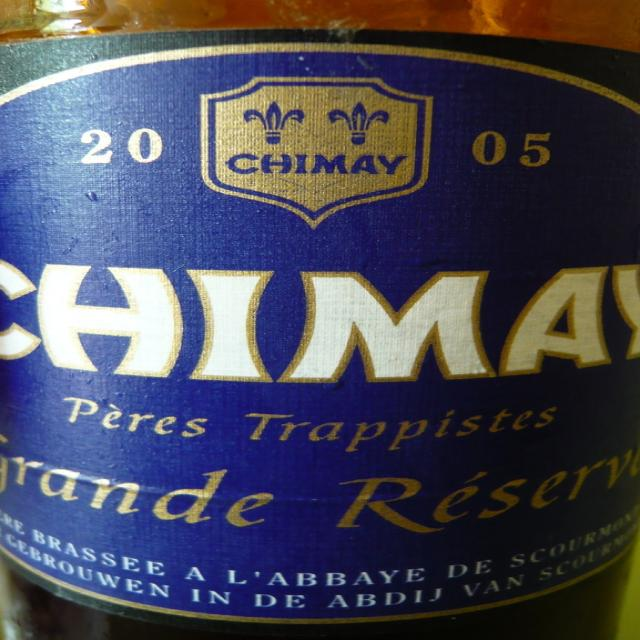chimay: (2, 42, 640, 625)
